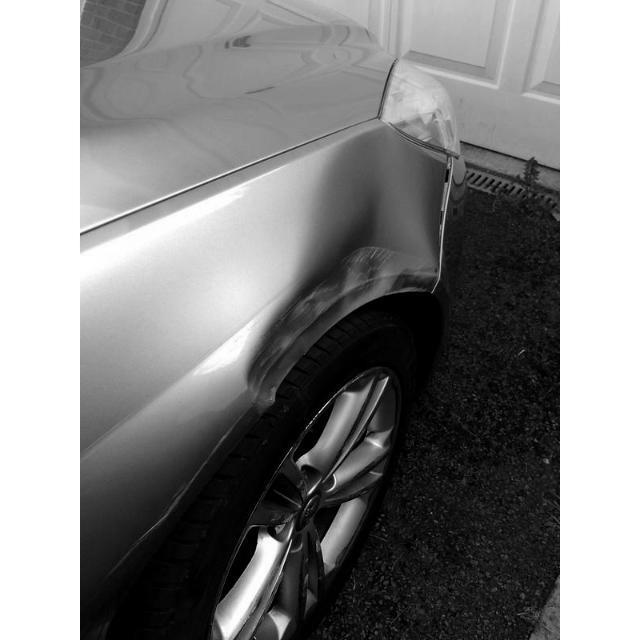fender-dent: (170, 156, 454, 429)
